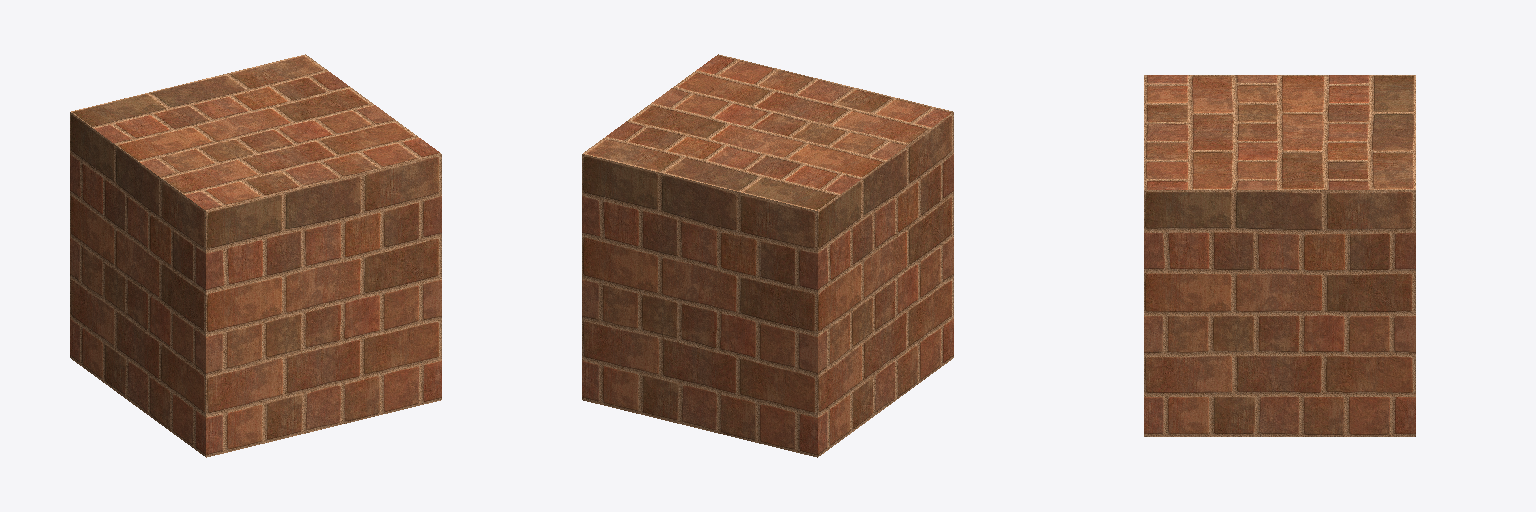
The picture shows the model from 3 angles: view 1: azimuth 30°, elevation 25°; view 2: azimuth 150°, elevation 25°; view 3: azimuth 270°, elevation 25°; orthographic projection.
Parts seen in each view (by area): view 1: cube; view 2: cube; view 3: cube.
Boxes of the visible parts, x1=… form: cube: x1=70, y1=54, x2=441, y2=457; cube: x1=582, y1=54, x2=953, y2=457; cube: x1=1144, y1=75, x2=1415, y2=436.
Size of the model in its own units: 2 by 2 by 2.
Materials: 1 (1 with a texture image).